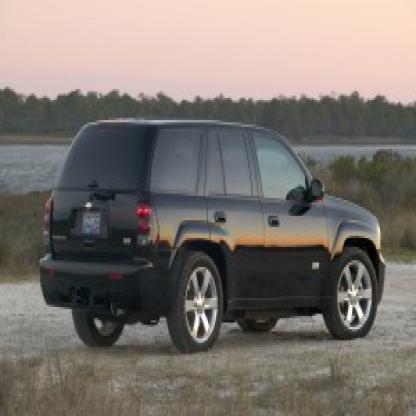Vehicle: (35, 113, 391, 365)
